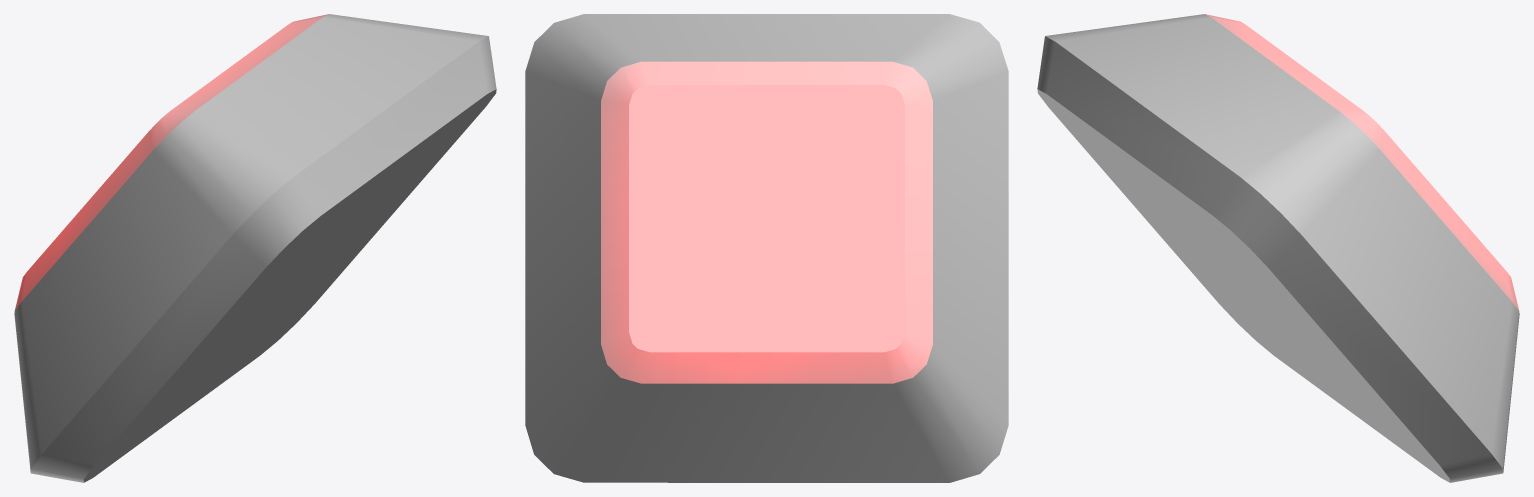
Rendered from Button.fbx.
3 renders of one model, left to right at view 1: azimuth 30°, elevation 25°; view 2: azimuth 150°, elevation 25°; view 3: azimuth 270°, elevation 25°, orthographic.
Visible parts, largest first — view 1: Button; view 2: Button; view 3: Button.
Part boxes in pixels (<box>): Button: <box>14,14,496,482</box>; Button: <box>525,14,1008,482</box>; Button: <box>1037,14,1519,482</box>.
Bounding box in the file's own units: 0.1227 × 0.094 × 0.1104.
